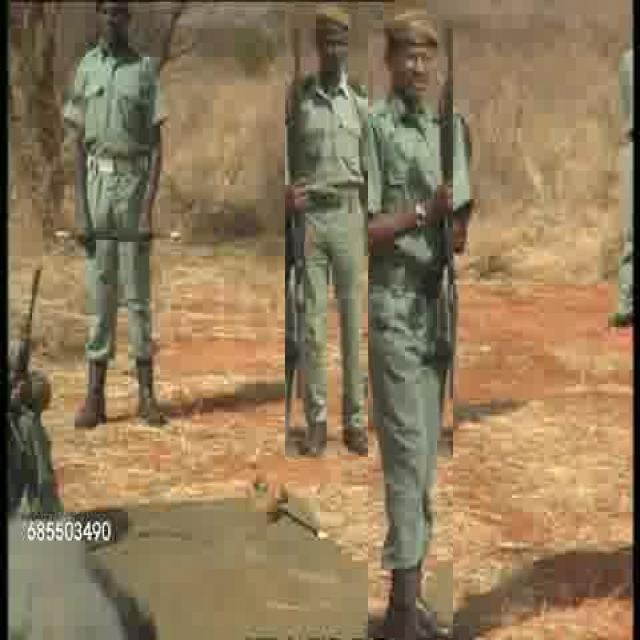poacher: (368, 20, 453, 638), (62, 2, 172, 444), (285, 2, 383, 460)
weapon: (360, 25, 376, 373)
